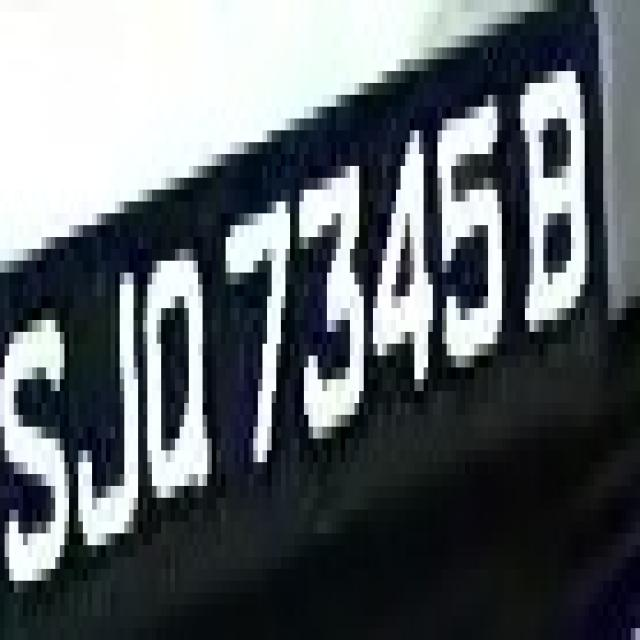3: (294, 142, 378, 450)
4: (364, 106, 442, 426)
5: (437, 83, 511, 356)
7: (216, 154, 300, 474)
B: (520, 35, 594, 344)
J: (69, 225, 147, 569)
Q: (125, 190, 216, 533)
S: (0, 261, 74, 628)
